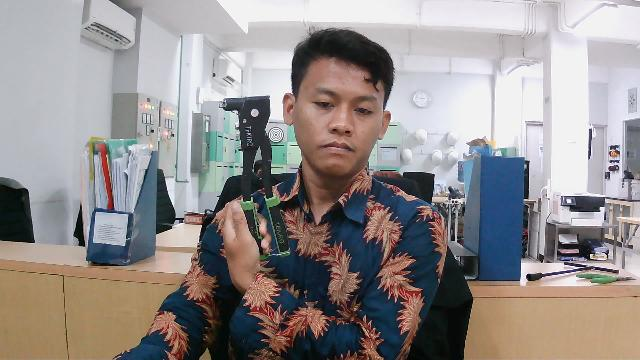tang_rivet: (207, 93, 299, 285)
